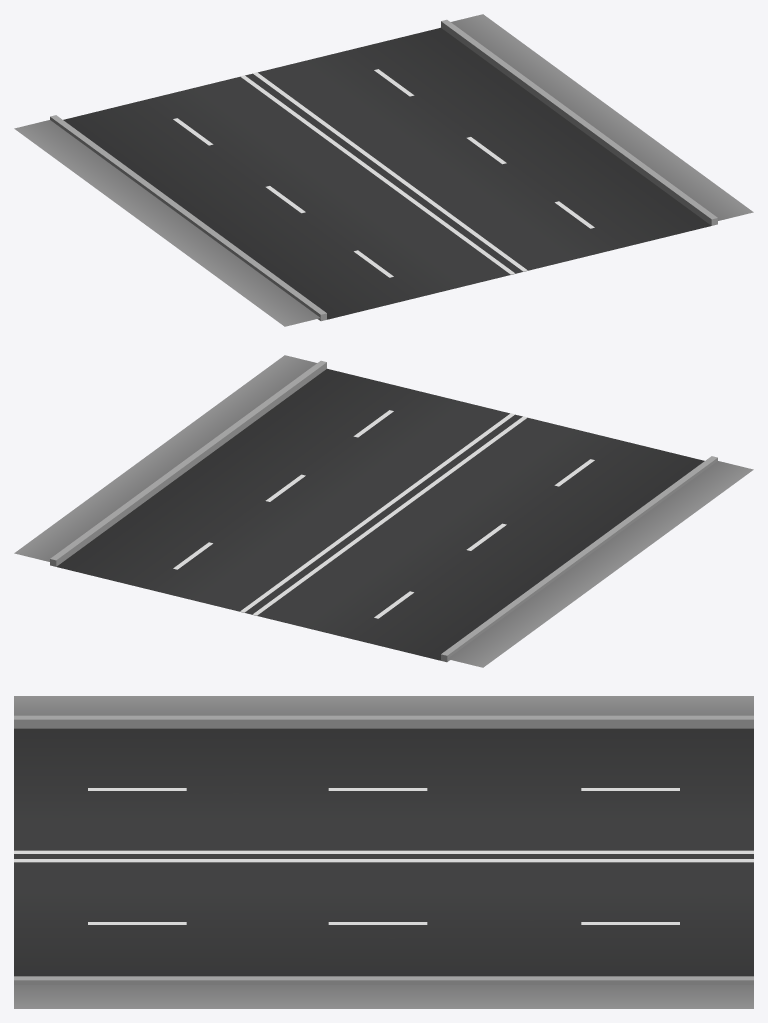
The model's file is road_001.glb.
The picture shows the model from 3 angles, top to bottom: view 1: azimuth 30°, elevation 25°; view 2: azimuth 150°, elevation 25°; view 3: azimuth 270°, elevation 25°; orthographic projection. The views are drawn at different scales.
Parts seen in each view (by area): view 1: road_001; view 2: road_001; view 3: road_001.
Boxes of the visible parts, x1,y1,x2,y2 form: road_001: [14, 14, 753, 326]; road_001: [14, 355, 753, 667]; road_001: [14, 696, 753, 1008].
Size of the model in its own units: 15 by 0.2 by 15.
Materials: 1 (1 with a texture image).
